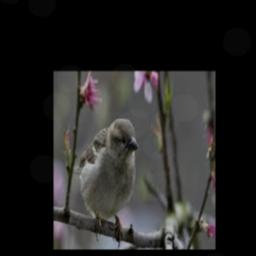Sparrow: (72, 117, 138, 246)
